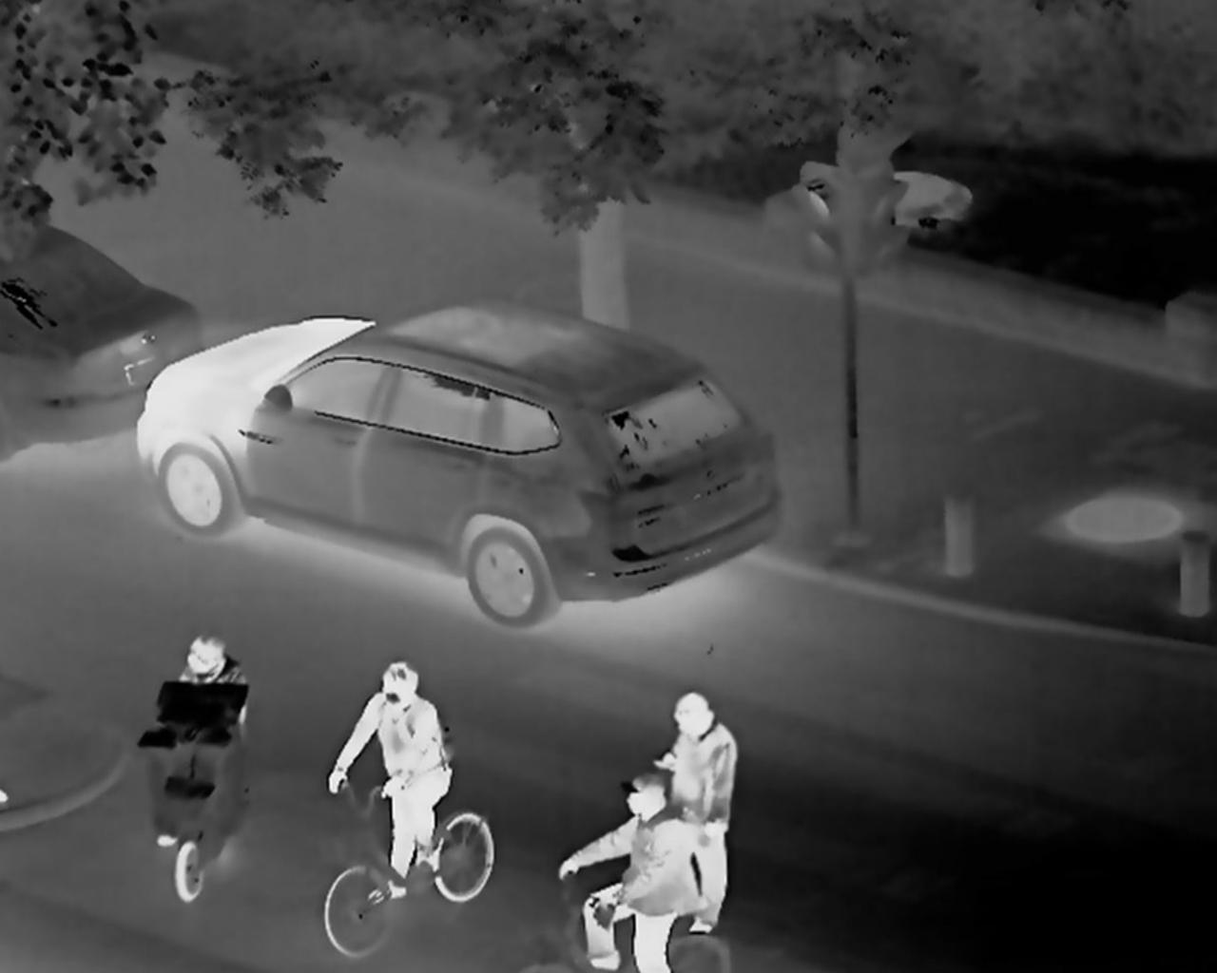person: (325, 631, 467, 896), (589, 748, 677, 960), (667, 673, 732, 887), (181, 618, 242, 732)
